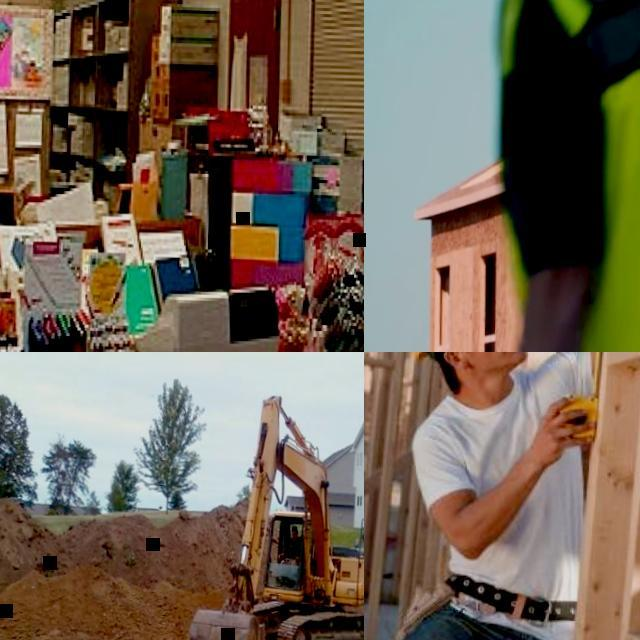helmet: (290, 524, 297, 532)
vest: (483, 0, 640, 352)
